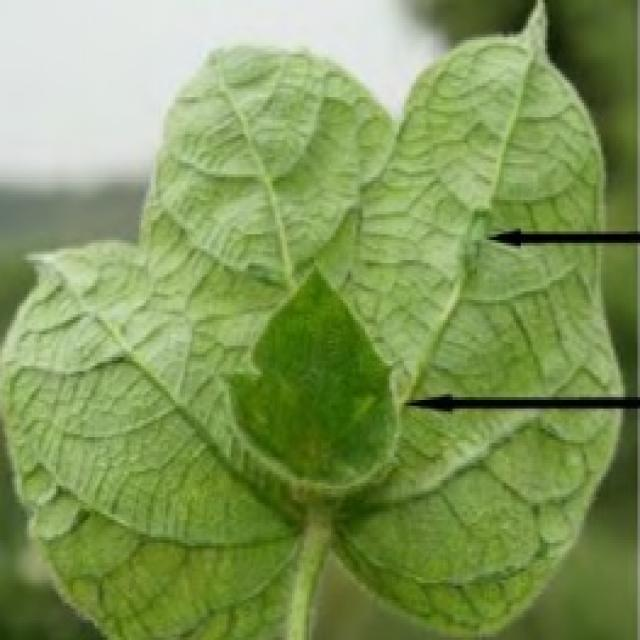Leaf Curl Virus: (108, 96, 526, 592)
